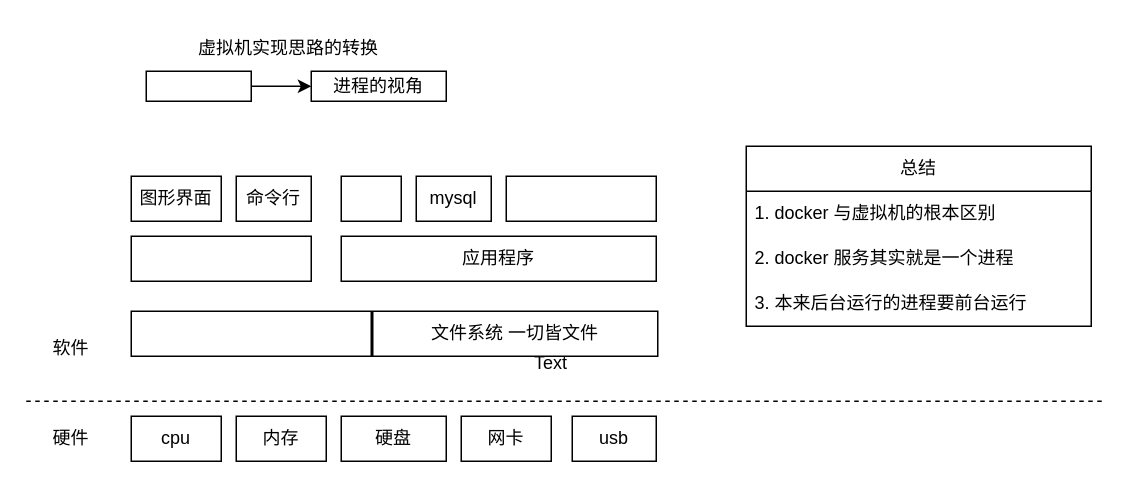
This 1134x488 diagram has some shape labels left out. Here are the shapes that lost their labels. From the top down, the centre of each, then its label:
At [198,85]: "人的视角".
At [370,198]: "nginx".
At [580,198]: "web 应用".
At [220,258]: "用户操作接口".
At [250,333]: "操作系统内核".
